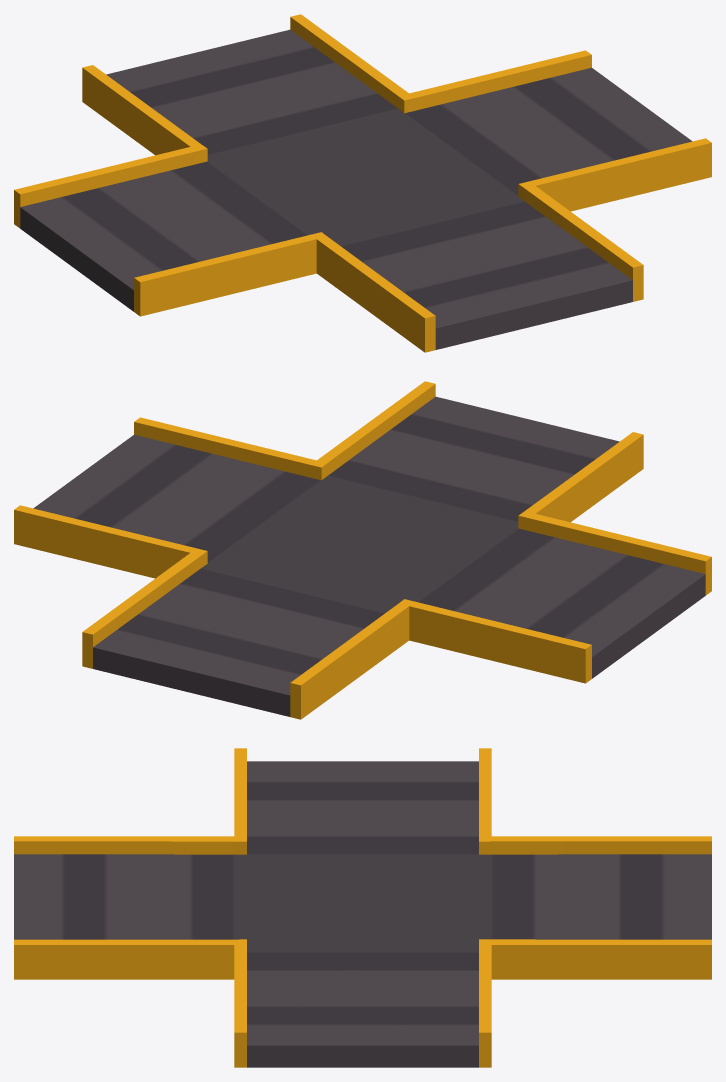
The model's file is perekrestok.fbx.
3 renders of one model, top to bottom at view 1: azimuth 30°, elevation 25°; view 2: azimuth 150°, elevation 25°; view 3: azimuth 270°, elevation 25°, orthographic.
Visible parts, largest first — view 1: Cylinder; view 2: Cylinder; view 3: Cylinder.
Boxes of the visible parts, box(x1,y1,x2,y2) form: Cylinder: box(14, 14, 711, 352); Cylinder: box(14, 381, 711, 719); Cylinder: box(14, 748, 711, 1067).
Size of the model in its own units: 5.23 by 0.3 by 5.43.
2 materials, 1 textured.
